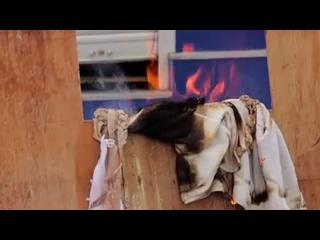Fire: (150, 46, 239, 100)
